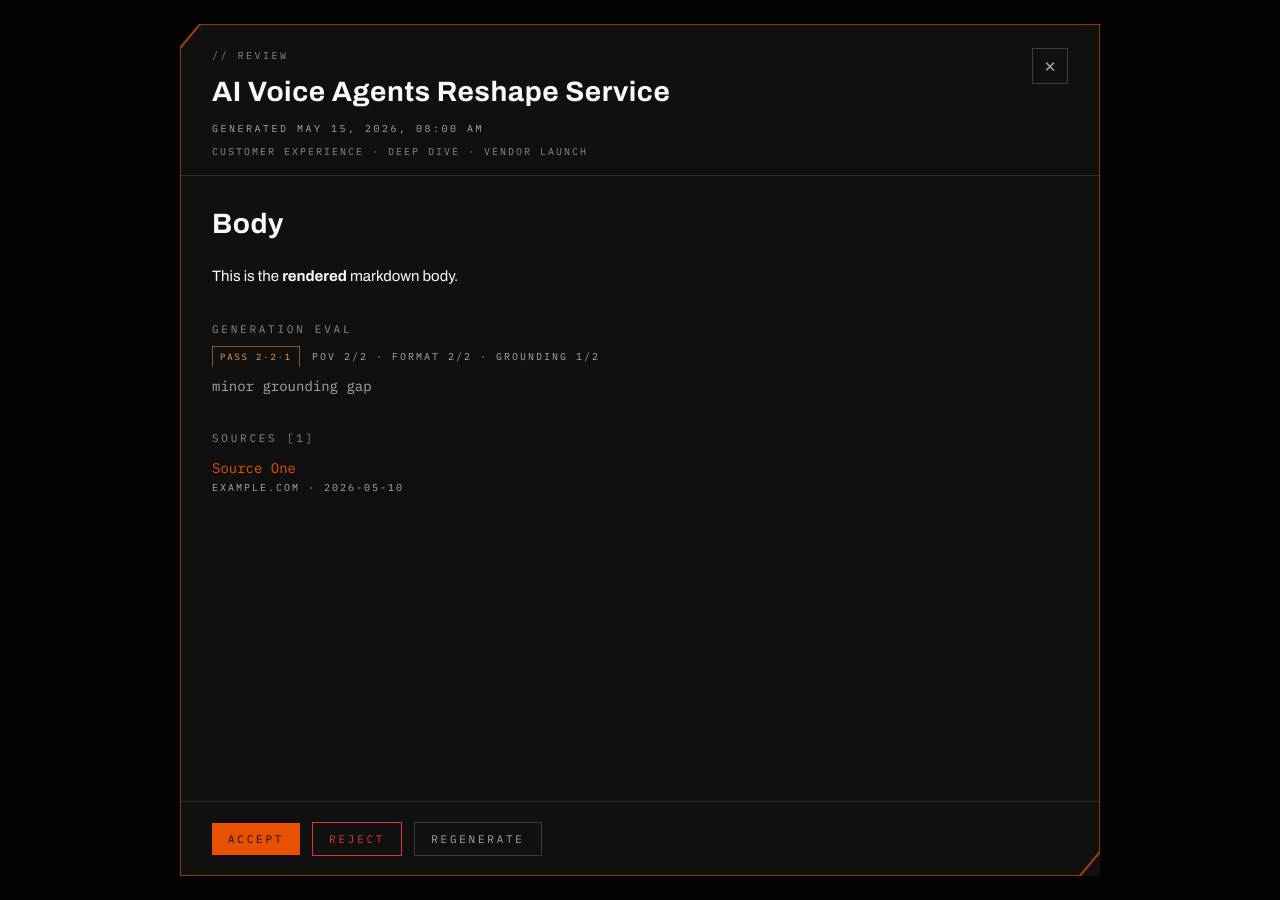
Test: ReviewPanel › opens accept modal when Accept is clicked
Click the button with test id "review-accept" at (256, 839), box [212,822,300,855]
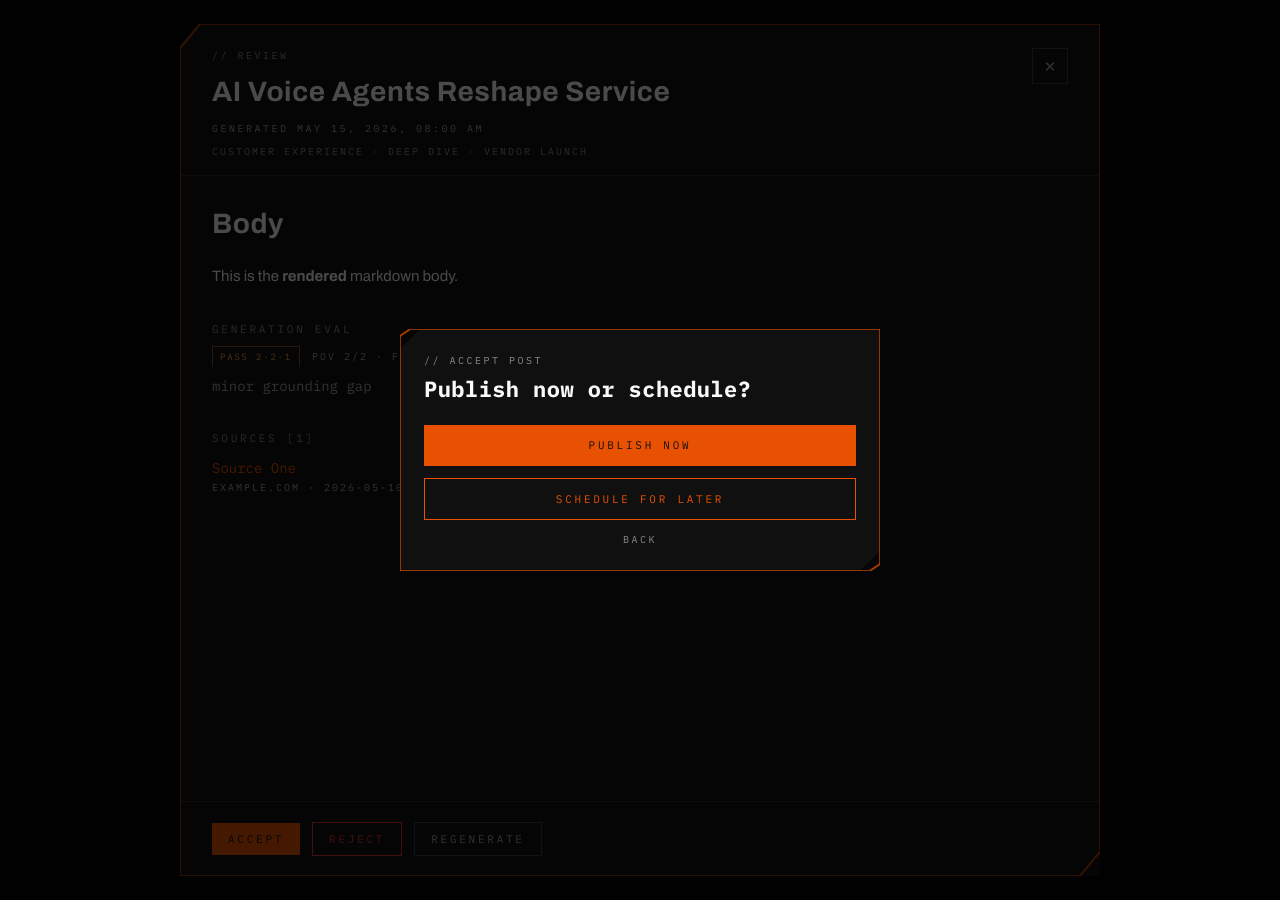
Now the dialog with test id "accept-modal" is shown
